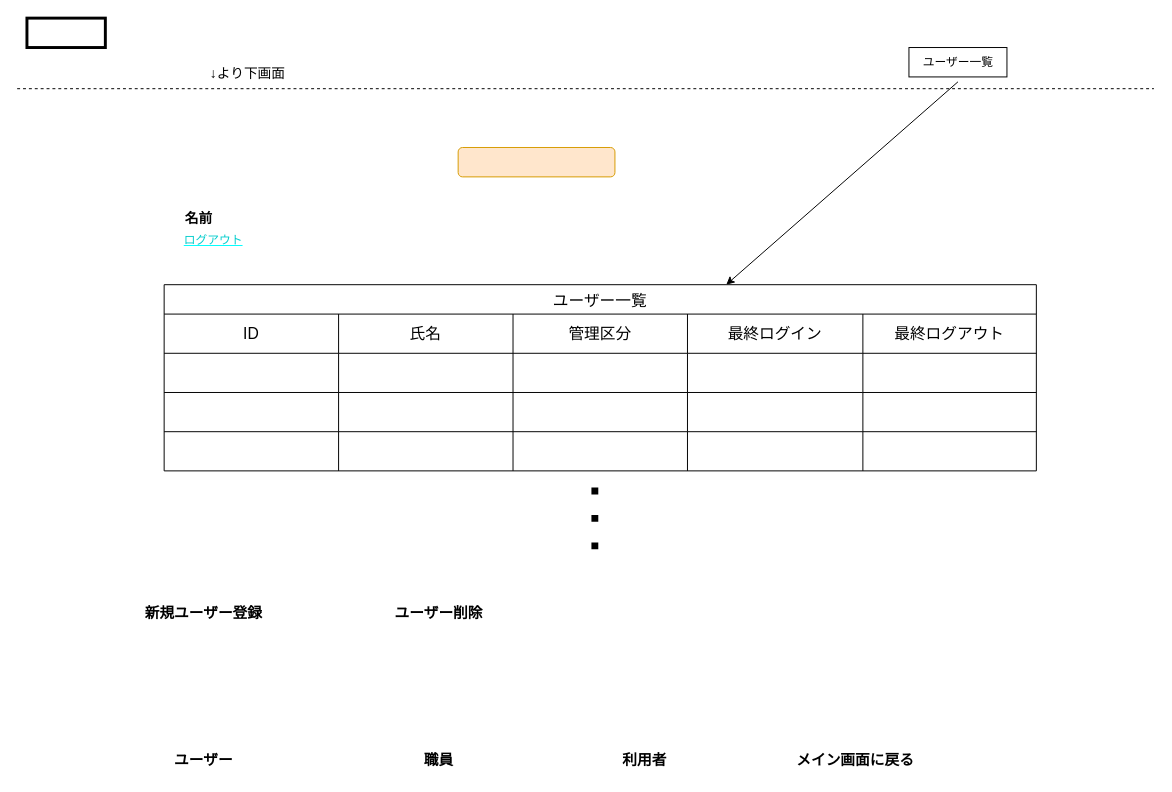
The diagram is 1172 pixels wide and 792 high, and some of its shapes have lost their labels. Each missing label, with the centre of its shape:
user.jsp: point (65, 32)
人事評価システム（仮）: point (536, 162)
